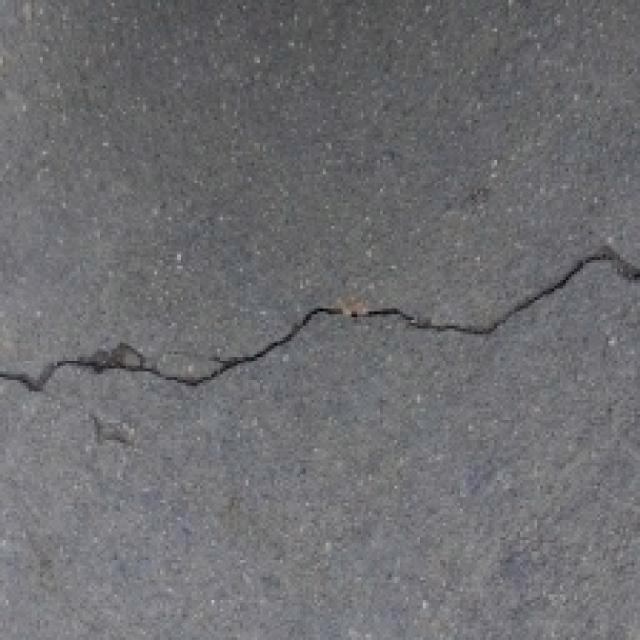crack: (0, 226, 640, 420)
